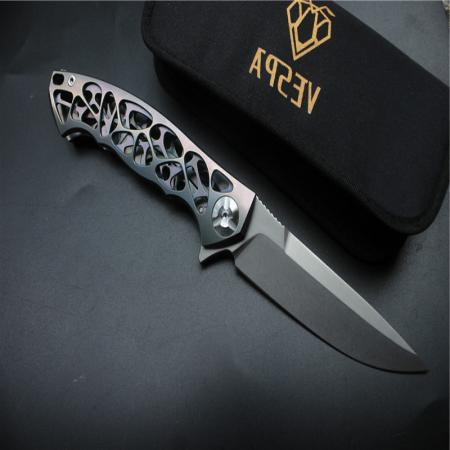long weapon: (194, 174, 436, 382)
